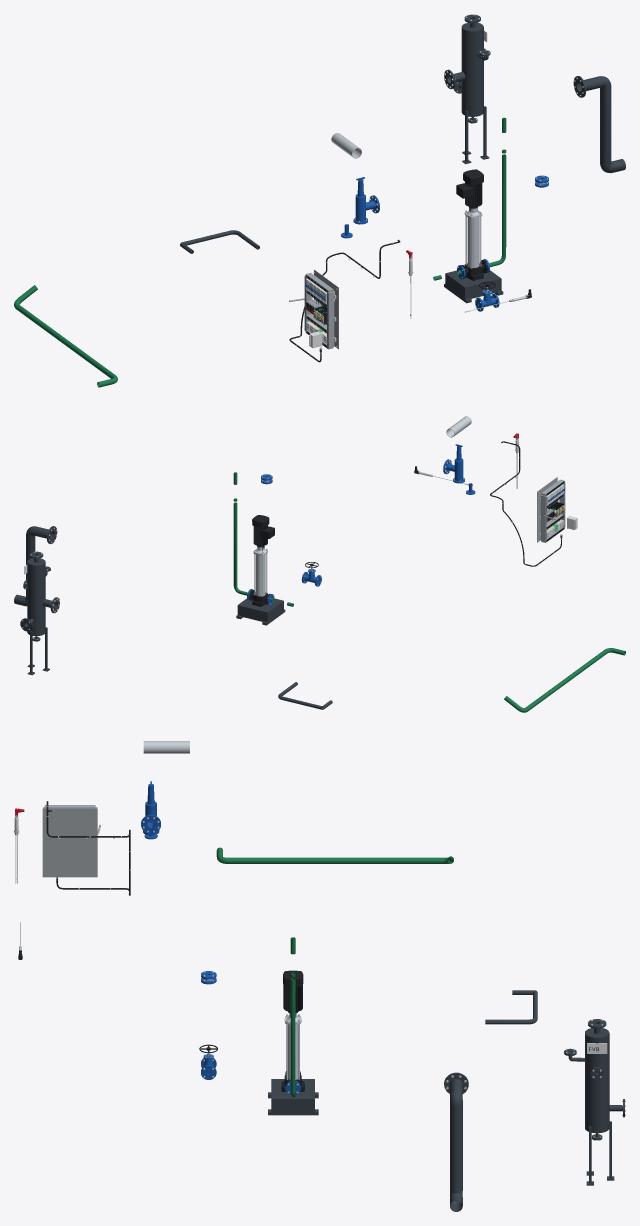
3 renders of one model, top to bottom at view 1: azimuth 30°, elevation 25°; view 2: azimuth 150°, elevation 25°; view 3: azimuth 270°, elevation 25°, orthographic. The views are drawn at different scales.
Parts seen in each view (by area): view 1: separator_fv8 / dark, cabinet_interior / cabinet_interior_0.npz, bdv_water_drain / dark, pump_branch_2 / dark, deaerator_feed / green, pump_2 CAD solid 15, pump_branch_2 / green, safety_2 / blue, pump_2 CAD solid 2; view 2: separator_fv8 / dark, cabinet_interior / cabinet_interior_0.npz, pump_branch_2 / dark, deaerator_feed / green, bdv_water_drain / dark, pump_branch_2 / green, pump_2 CAD solid 15, safety_2 / blue; view 3: cabinet_interior / cabinet_interior_0.npz, separator_fv8 / dark, bdv_water_drain / dark, deaerator_feed / green, pump_branch_2 / dark, pump_branch_2 / green, pump_2 CAD solid 15.
Part boxes in pixels (<box>): separator_fv8 / dark: <box>444,14,490,164</box>; cabinet_interior / cabinet_interior_0.npz: <box>289,269,338,349</box>; bdv_water_drain / dark: <box>573,76,625,173</box>; pump_branch_2 / dark: <box>444,270,503,303</box>; deaerator_feed / green: <box>14,285,117,387</box>; pump_2 CAD solid 15: <box>456,169,483,207</box>; pump_branch_2 / green: <box>433,117,506,280</box>; safety_2 / blue: <box>353,177,379,224</box>; pump_2 CAD solid 2: <box>467,217,479,267</box>; separator_fv8 / dark: <box>20,551,59,675</box>; cabinet_interior / cabinet_interior_0.npz: <box>537,477,565,542</box>; pump_branch_2 / dark: <box>236,598,285,625</box>; deaerator_feed / green: <box>504,648,625,712</box>; bdv_water_drain / dark: <box>14,526,57,606</box>; pump_branch_2 / green: <box>233,472,293,606</box>; pump_2 CAD solid 15: <box>252,515,274,546</box>; safety_2 / blue: <box>443,444,464,483</box>; cabinet_interior / cabinet_interior_0.npz: <box>42,805,100,877</box>; separator_fv8 / dark: <box>564,1019,624,1185</box>; bdv_water_drain / dark: <box>444,1072,468,1211</box>; deaerator_feed / green: <box>216,847,453,863</box>; pump_branch_2 / dark: <box>268,1079,318,1115</box>; pump_branch_2 / green: <box>290,937,295,1097</box>; pump_2 CAD solid 15: <box>283,970,303,1012</box>.
Size of the model in its own units: 7.22 by 2.59 by 5.44.
